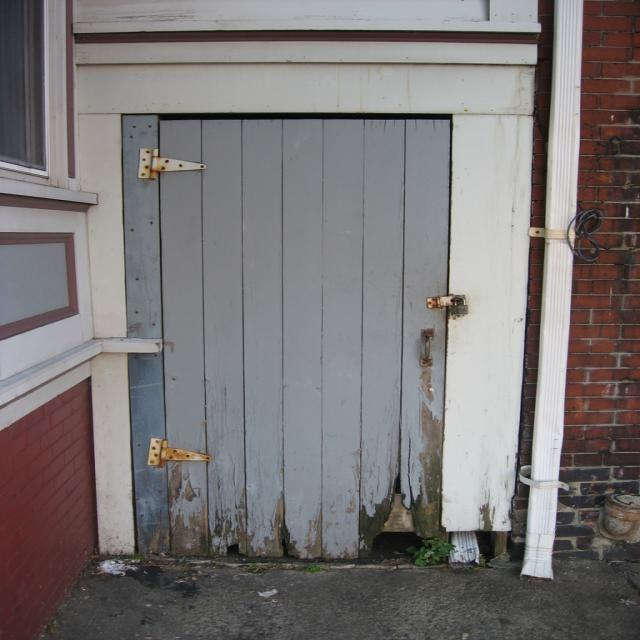door: (122, 110, 460, 564)
